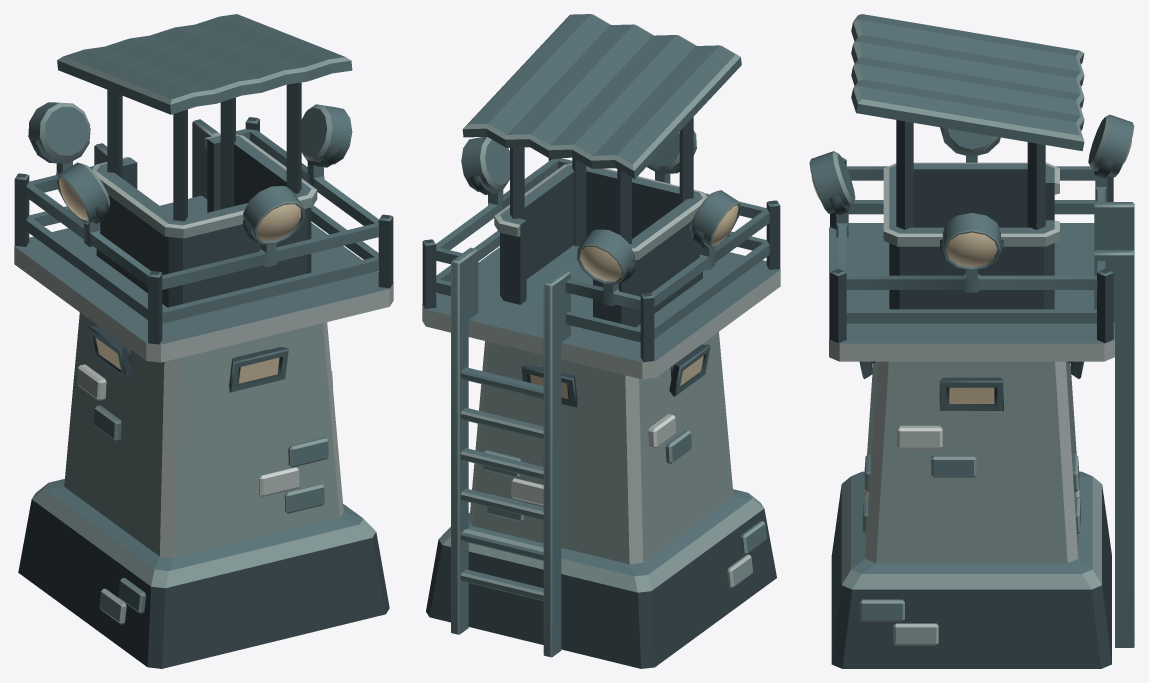
File: Tower.fbx
3 renders of one model, left to right at view 1: azimuth 30°, elevation 25°; view 2: azimuth 150°, elevation 25°; view 3: azimuth 270°, elevation 25°, orthographic. The views are drawn at different scales.
Visible parts, largest first — view 1: Tower; view 2: Tower; view 3: Tower.
Part boxes in pixels (bbox=[...]): Tower: bbox=[14, 14, 393, 668]; Tower: bbox=[422, 14, 780, 668]; Tower: bbox=[809, 14, 1134, 668].
Size of the model in its own units: 252 by 476 by 252.
